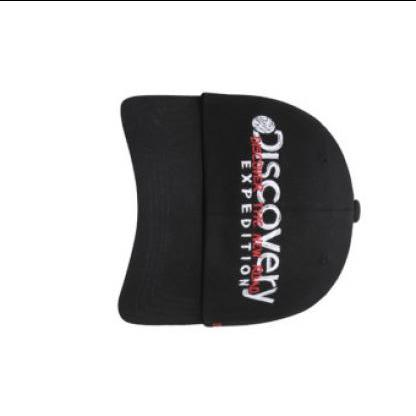cap: (112, 81, 367, 336)
